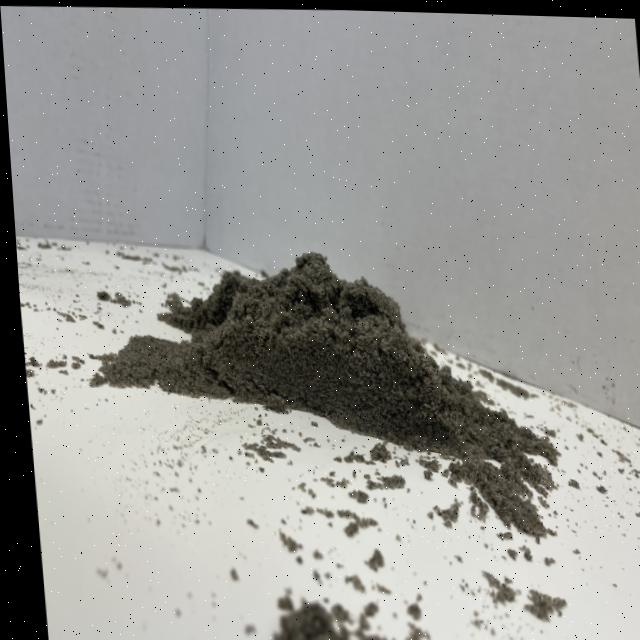sand: (64, 136, 607, 551)
